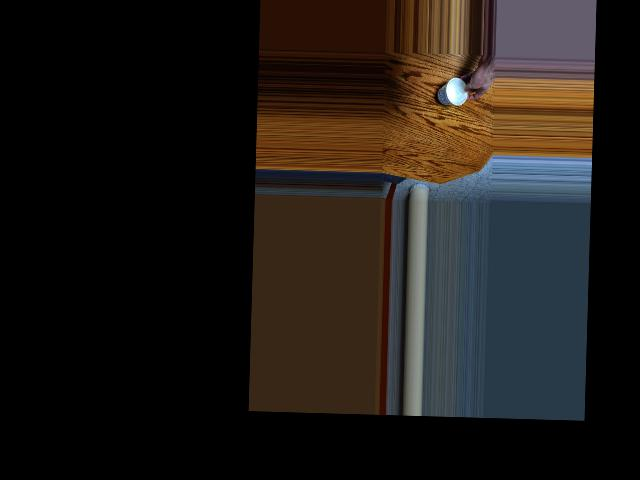cotage: (438, 79, 470, 104)
